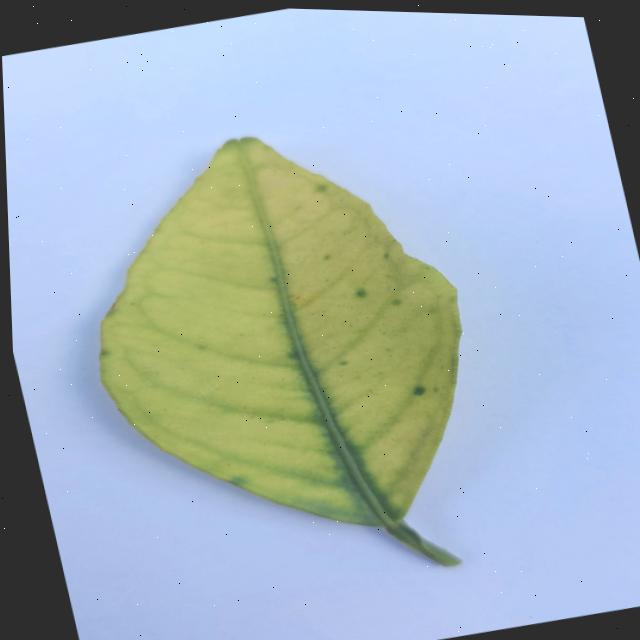greening: (101, 137, 461, 566)
